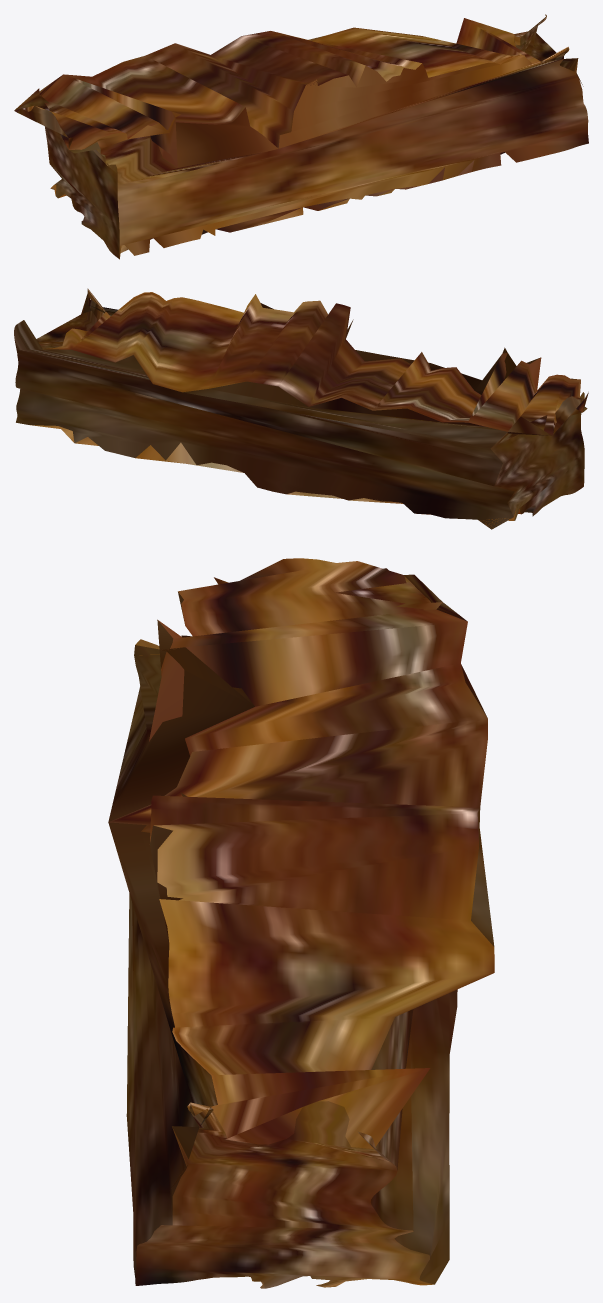
File: shoarma_los.glb
The picture shows the model from 3 angles, top to bottom: view 1: azimuth 30°, elevation 25°; view 2: azimuth 150°, elevation 25°; view 3: azimuth 270°, elevation 25°; orthographic projection. The views are drawn at different scales.
Visible parts, largest first — view 1: Cube; view 2: Cube; view 3: Cube.
Boxes of the visible parts, left/top/right/bottom form: Cube: left=14, top=14, right=588, bottom=259; Cube: left=14, top=288, right=588, bottom=529; Cube: left=108, top=558, right=494, bottom=1288.
Size of the model in its own units: 0.1932 by 0.0437 by 0.0615.
1 material, 1 textured.
